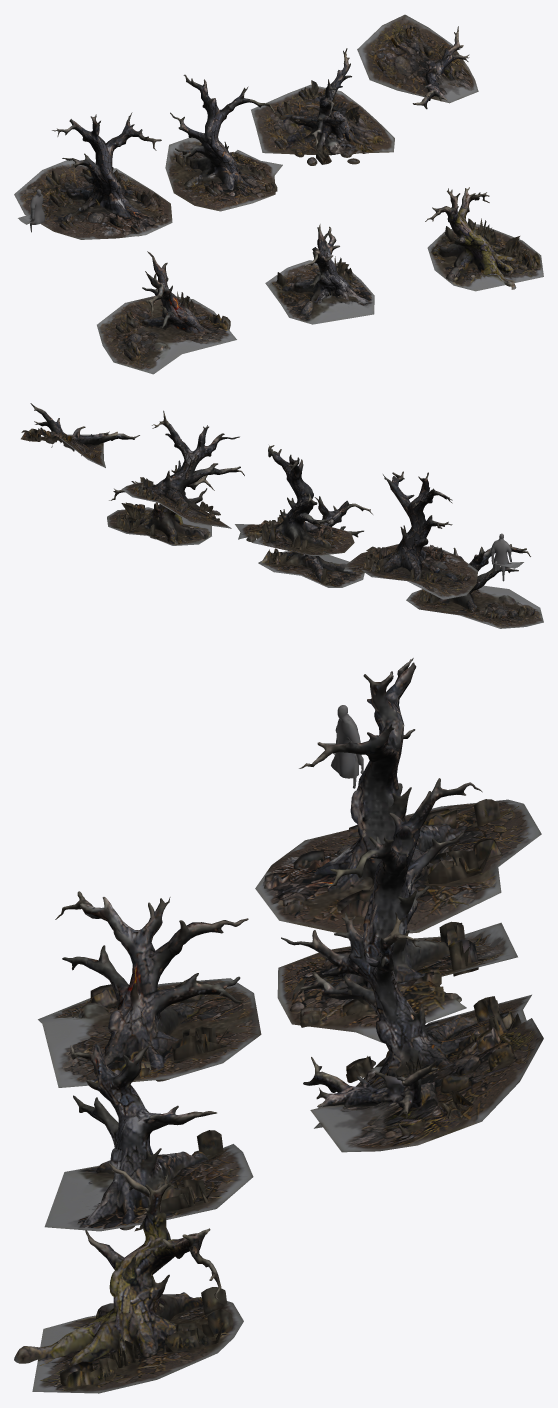
The model's file is asset_12_burned_tree_sheet.glb.
The picture shows the model from 3 angles, top to bottom: view 1: azimuth 30°, elevation 25°; view 2: azimuth 150°, elevation 25°; view 3: azimuth 270°, elevation 25°; orthographic projection. The views are drawn at different scales.
Visible parts, largest first — view 1: tripo_20f49180_09ae_48dc_bace_6c6369c7abb3; view 2: tripo_20f49180_09ae_48dc_bace_6c6369c7abb3; view 3: tripo_20f49180_09ae_48dc_bace_6c6369c7abb3.
Boxes of the visible parts, x1,y1,x2,y2 form: tripo_20f49180_09ae_48dc_bace_6c6369c7abb3: [14, 14, 543, 374]; tripo_20f49180_09ae_48dc_bace_6c6369c7abb3: [21, 403, 543, 628]; tripo_20f49180_09ae_48dc_bace_6c6369c7abb3: [14, 658, 543, 1393].
Bounding box in the file's own units: 0.9995 × 0.3931 × 0.4927.
Materials: 1 (1 with a texture image).
